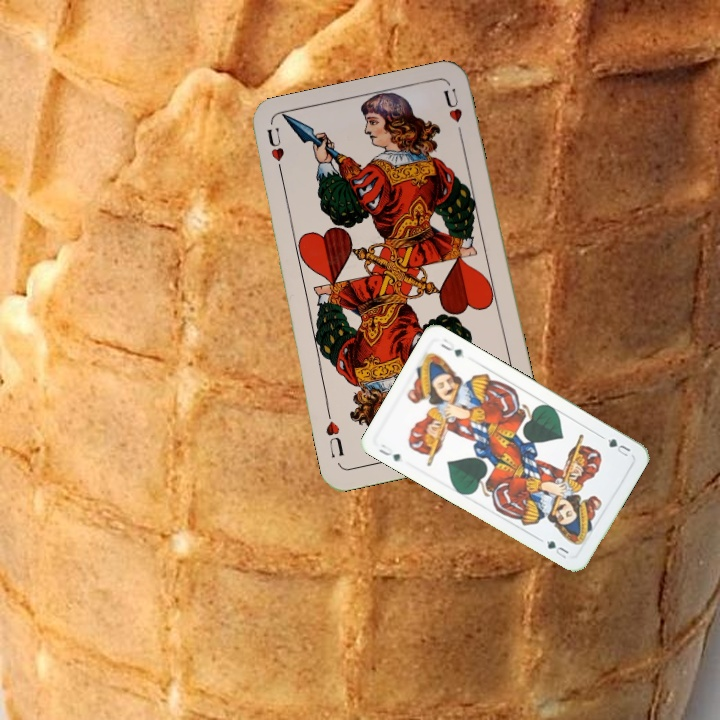GU: (603, 434, 633, 459), (375, 440, 403, 464)
HU: (263, 124, 287, 181)
